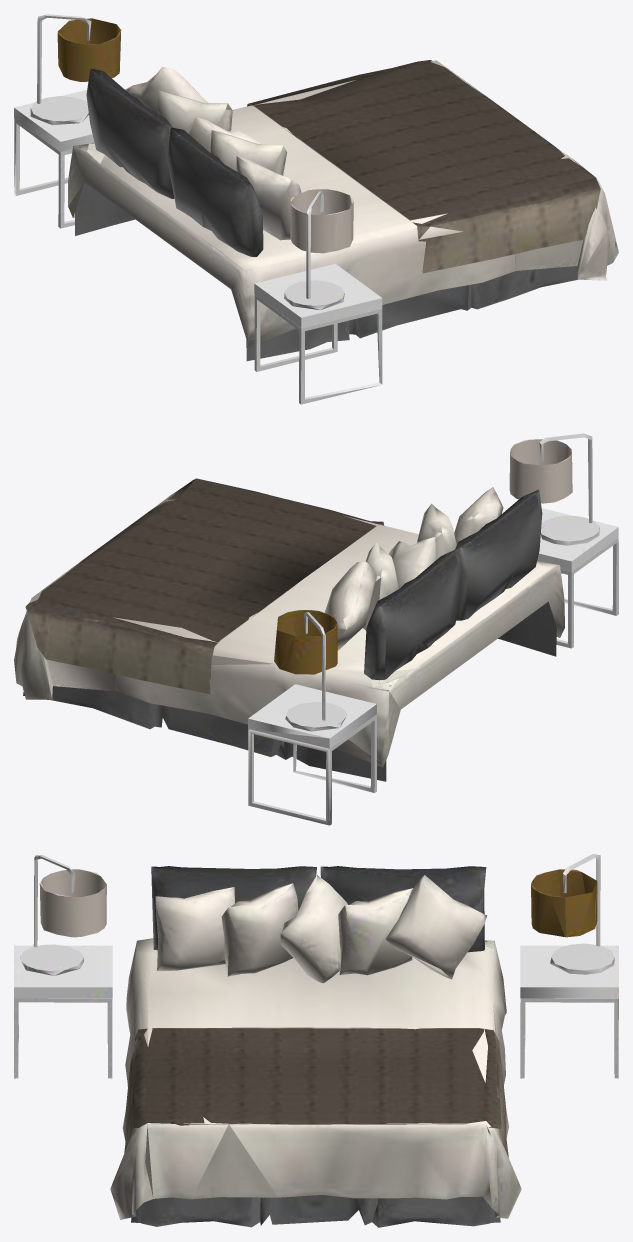
Rendered from Bed0003.obj.
3 renders of one model, top to bottom at view 1: azimuth 30°, elevation 25°; view 2: azimuth 150°, elevation 25°; view 3: azimuth 270°, elevation 25°, orthographic. The views are drawn at different scales.
Size of the model in its own units: 2.15 by 1.01 by 2.84.
Materials: 1 (1 with a texture image).
